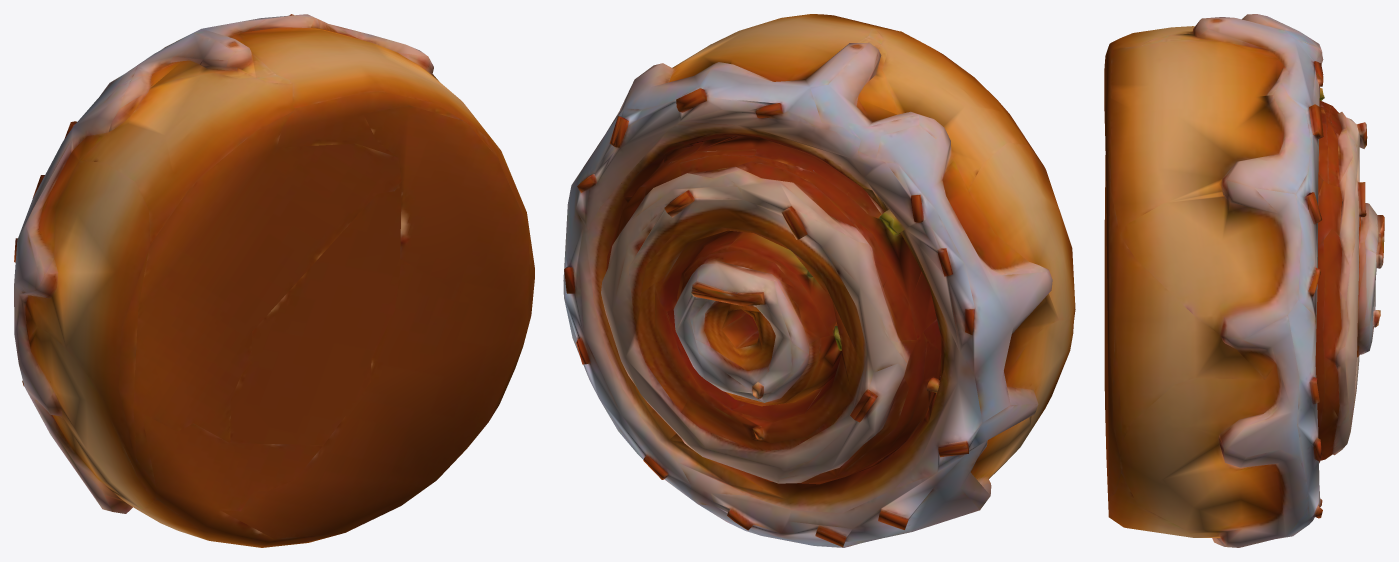
The picture shows the model from 3 angles, left to right: view 1: azimuth 30°, elevation 25°; view 2: azimuth 150°, elevation 25°; view 3: azimuth 270°, elevation 25°; orthographic projection.
Visible parts, largest first — view 1: material; view 2: material; view 3: material.
Boxes of the visible parts, x1,y1,x2,y2 form: material: (14,14,534,547); material: (563,14,1075,547); material: (1104,14,1384,547).
Size of the model in its own units: 0.9951 by 1 by 0.5216.
1 material, 1 textured.
